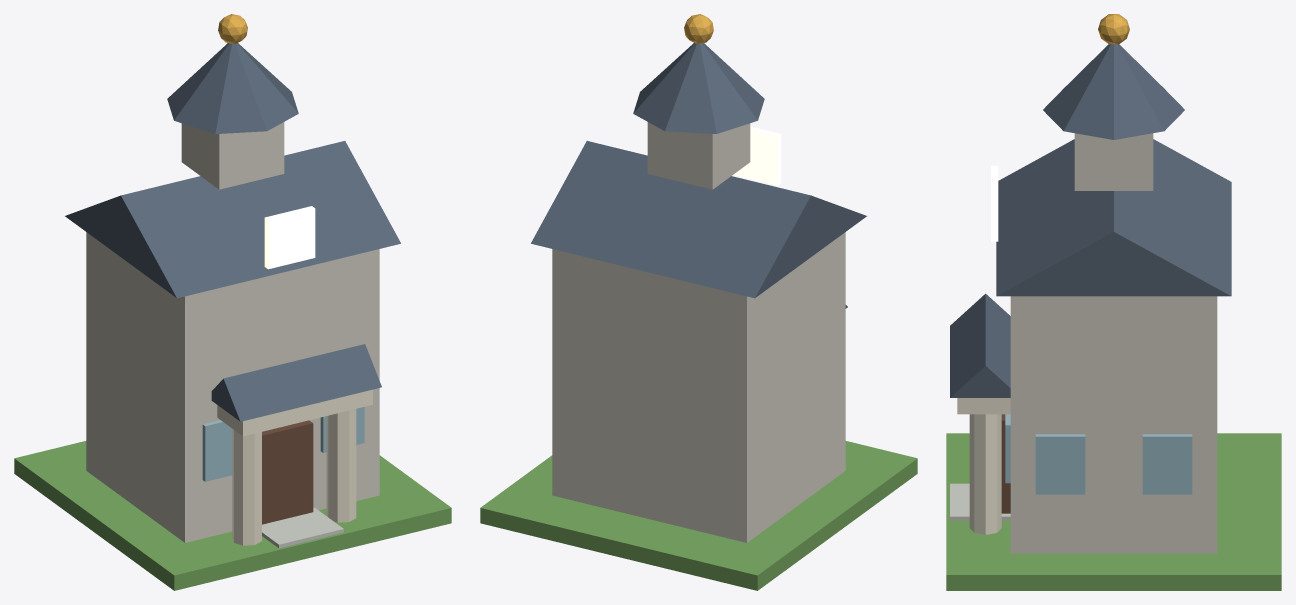
The model's file is cityHall-4.glb.
3 views of the same model, side by side, from view 1: azimuth 30°, elevation 25°; view 2: azimuth 150°, elevation 25°; view 3: azimuth 270°, elevation 25° (orthographic). The views are drawn at different scales.
Parts seen in each view (by area): view 1: cityHall-4; view 2: cityHall-4; view 3: cityHall-4.
Part boxes in pixels (x1=…): cityHall-4: x1=14, y1=14, x2=451, y2=590; cityHall-4: x1=480, y1=14, x2=917, y2=590; cityHall-4: x1=946, y1=14, x2=1281, y2=590.
Size of the model in its own units: 0.94 by 1.56 by 0.94.
